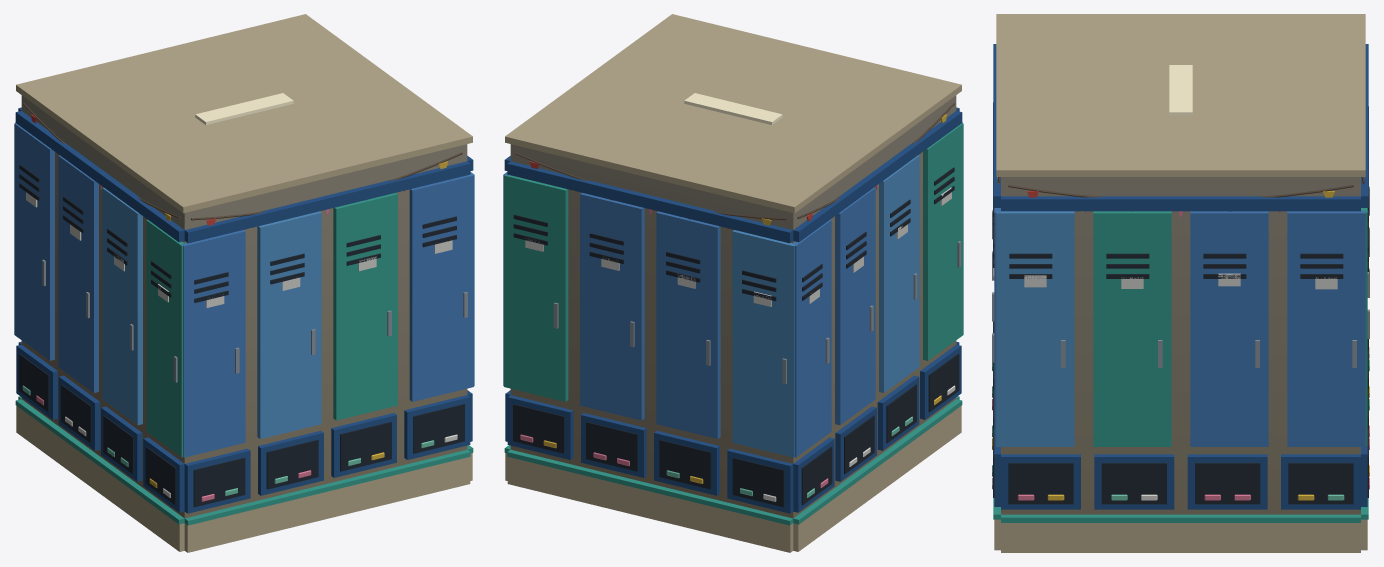
File: wall_a.fbx
The picture shows the model from 3 angles, left to right: view 1: azimuth 30°, elevation 25°; view 2: azimuth 150°, elevation 25°; view 3: azimuth 270°, elevation 25°; orthographic projection. The views are drawn at different scales.
Visible parts, largest first — view 1: wall_a; view 2: wall_a; view 3: wall_a.
Boxes of the visible parts, x1=… form: wall_a: x1=14, y1=14, x2=474, y2=552; wall_a: x1=503, y1=14, x2=963, y2=552; wall_a: x1=992, y1=14, x2=1369, y2=552.
Size of the model in its own units: 4 by 4.5 by 4.
